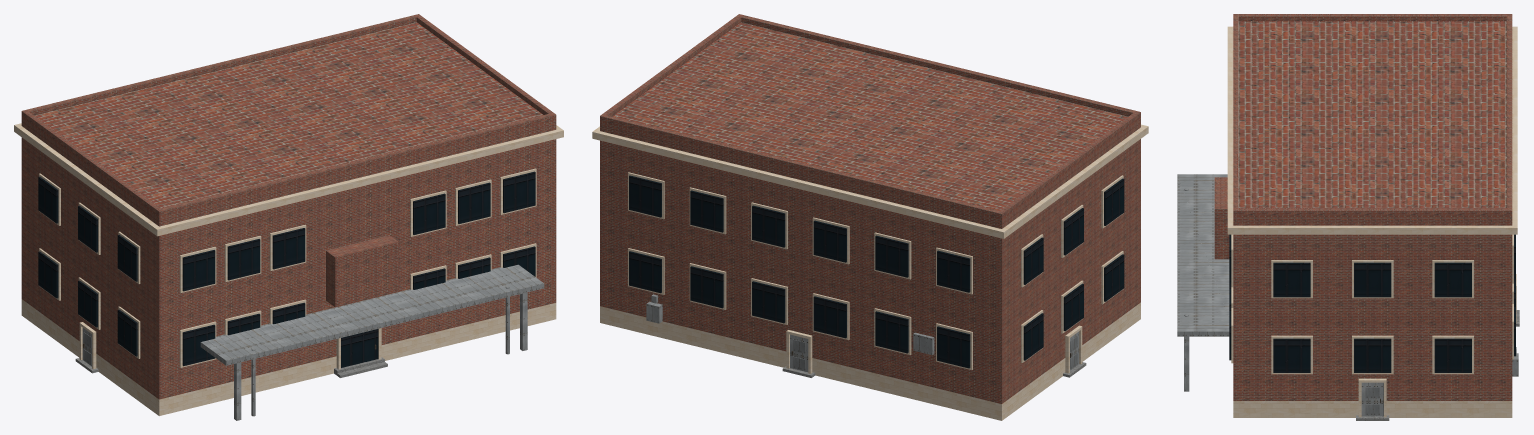
Rendered from ironworks-freight-office_lod0.gltf.
The picture shows the model from 3 angles, left to right: view 1: azimuth 30°, elevation 25°; view 2: azimuth 150°, elevation 25°; view 3: azimuth 270°, elevation 25°; orthographic projection.
Parts seen in each view (by area): view 1: ironworks-freight-office_upper, ironworks-freight-office_fen_07-glass-curtain-blue_1_t, ironworks-freight-office__platform_canopy, ironworks-freight-office_base, ironworks-freight-office__cornice, ironworks-freight-office_fen_04-limestone_0, ironworks-freight-office__bay_window, ironworks-freight-office__parapet_front, ironworks-freight-office__parapet_back, ironworks-freight-office__parapet_left, ironworks-freight-office__parapet_right, ironworks-freight-office_fen_06-granite_3; view 2: ironworks-freight-office_upper, ironworks-freight-office_fen_07-glass-curtain-blue_1_t, ironworks-freight-office_base, ironworks-freight-office_fen_04-limestone_0, ironworks-freight-office__cornice, ironworks-freight-office__parapet_back, ironworks-freight-office__parapet_front, ironworks-freight-office_fen_14-steel-panel_4, ironworks-freight-office__parapet_left, ironworks-freight-office__parapet_right; view 3: ironworks-freight-office_upper, ironworks-freight-office_fen_07-glass-curtain-blue_1_t, ironworks-freight-office__platform_canopy, ironworks-freight-office__cornice, ironworks-freight-office_base, ironworks-freight-office_fen_04-limestone_0, ironworks-freight-office__parapet_right, ironworks-freight-office__parapet_left, ironworks-freight-office__parapet_back, ironworks-freight-office__parapet_front, ironworks-freight-office__bay_window, ironworks-freight-office_fen_14-steel-panel_4 (+2 smaller).
Part boxes in pixels (<box>): ironworks-freight-office_upper: <box>21,22,556,399</box>; ironworks-freight-office_fen_07-glass-curtain-blue_1_t: <box>38,171,535,367</box>; ironworks-freight-office__platform_canopy: <box>200,264,544,365</box>; ironworks-freight-office_base: <box>21,299,556,415</box>; ironworks-freight-office__cornice: <box>14,123,563,236</box>; ironworks-freight-office_fen_04-limestone_0: <box>39,168,536,369</box>; ironworks-freight-office__bay_window: <box>326,235,398,307</box>; ironworks-freight-office__parapet_front: <box>156,112,556,216</box>; ironworks-freight-office__parapet_back: <box>21,14,420,117</box>; ironworks-freight-office__parapet_left: <box>24,112,160,213</box>; ironworks-freight-office__parapet_right: <box>416,16,553,114</box>; ironworks-freight-office_fen_06-granite_3: <box>75,357,387,377</box>; ironworks-freight-office_upper: <box>600,22,1140,403</box>; ironworks-freight-office_fen_07-glass-curtain-blue_1_t: <box>629,175,1124,368</box>; ironworks-freight-office_base: <box>600,302,1140,420</box>; ironworks-freight-office_fen_04-limestone_0: <box>628,172,1123,373</box>; ironworks-freight-office__cornice: <box>592,124,1148,238</box>; ironworks-freight-office__parapet_back: <box>600,114,1004,218</box>; ironworks-freight-office__parapet_front: <box>737,14,1140,118</box>; ironworks-freight-office_fen_14-steel-panel_4: <box>646,294,1079,372</box>; ironworks-freight-office__parapet_left: <box>1000,113,1138,216</box>; ironworks-freight-office__parapet_right: <box>603,16,741,116</box>; ironworks-freight-office_upper: <box>1233,21,1512,400</box>; ironworks-freight-office_fen_07-glass-curtain-blue_1_t: <box>1229,234,1515,372</box>; ironworks-freight-office__platform_canopy: <box>1177,174,1229,336</box>; ironworks-freight-office__cornice: <box>1227,26,1517,234</box>; ironworks-freight-office_base: <box>1233,401,1512,417</box>; ironworks-freight-office_fen_04-limestone_0: <box>1231,234,1516,417</box>; ironworks-freight-office__parapet_right: <box>1238,208,1506,215</box>; ironworks-freight-office__parapet_left: <box>1238,14,1506,21</box>; ironworks-freight-office__parapet_back: <box>1506,14,1512,215</box>; ironworks-freight-office__parapet_front: <box>1233,14,1238,215</box>; ironworks-freight-office__bay_window: <box>1214,177,1229,259</box>; ironworks-freight-office_fen_14-steel-panel_4: <box>1361,347,1518,416</box>.
Bounding box in the file's own units: 25.8 × 12.3 × 18.4.
